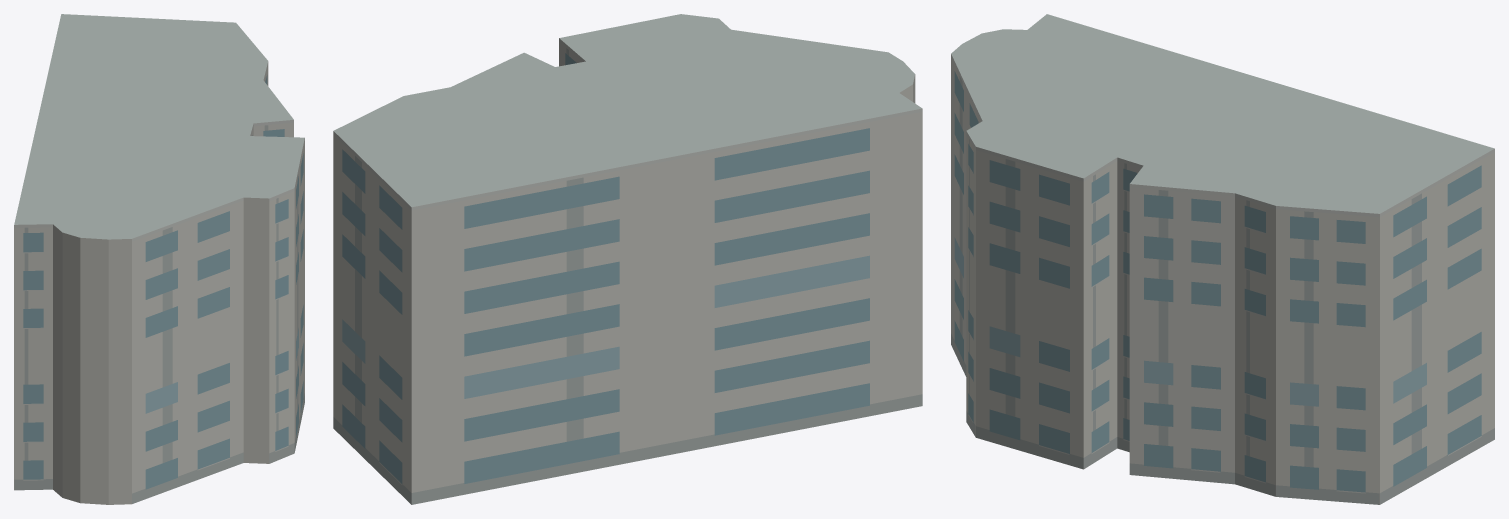
Rendered from survey-upis-32850554.glb.
3 renders of one model, left to right at view 1: azimuth 30°, elevation 25°; view 2: azimuth 150°, elevation 25°; view 3: azimuth 270°, elevation 25°, orthographic. The views are drawn at different scales.
Visible parts, largest first — view 1: survey-upis-32850554.tmp; view 2: survey-upis-32850554.tmp; view 3: survey-upis-32850554.tmp.
Part boxes in pixels (x1,y1,x2,y2): survey-upis-32850554.tmp: [14, 14, 304, 504]; survey-upis-32850554.tmp: [333, 14, 922, 504]; survey-upis-32850554.tmp: [951, 14, 1494, 504].
Bounding box in the file's own units: 30.95 × 21 × 35.58.
